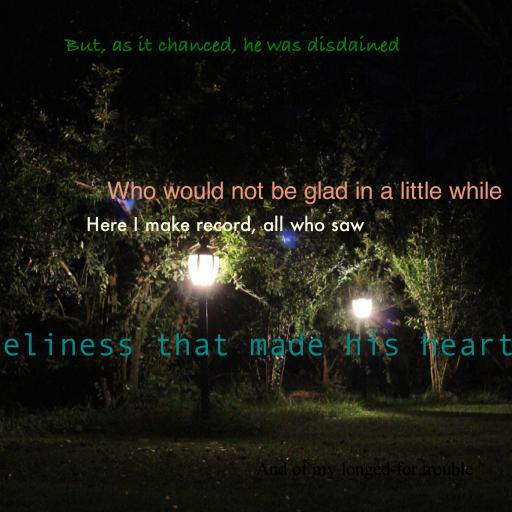Andale Mono: (0, 332, 512, 356)
Bradley Hand: (64, 35, 400, 54)
Futura: (86, 215, 364, 235)
Helvetica: (106, 181, 502, 205)
Times New Roman: (255, 461, 473, 479)
